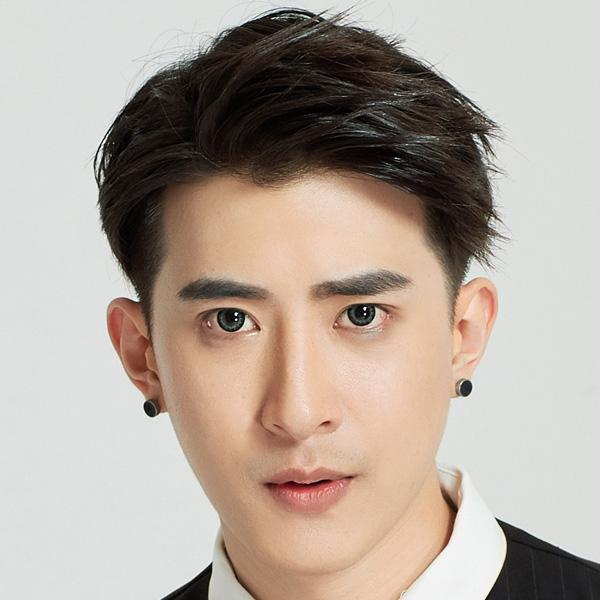Eyes: (185, 298, 271, 352), (323, 294, 404, 342)
